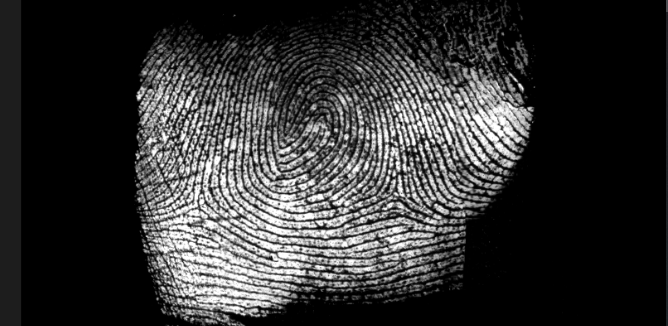deltas: (175, 168, 229, 227), (371, 168, 422, 219)
nucleo: (292, 97, 346, 155)
